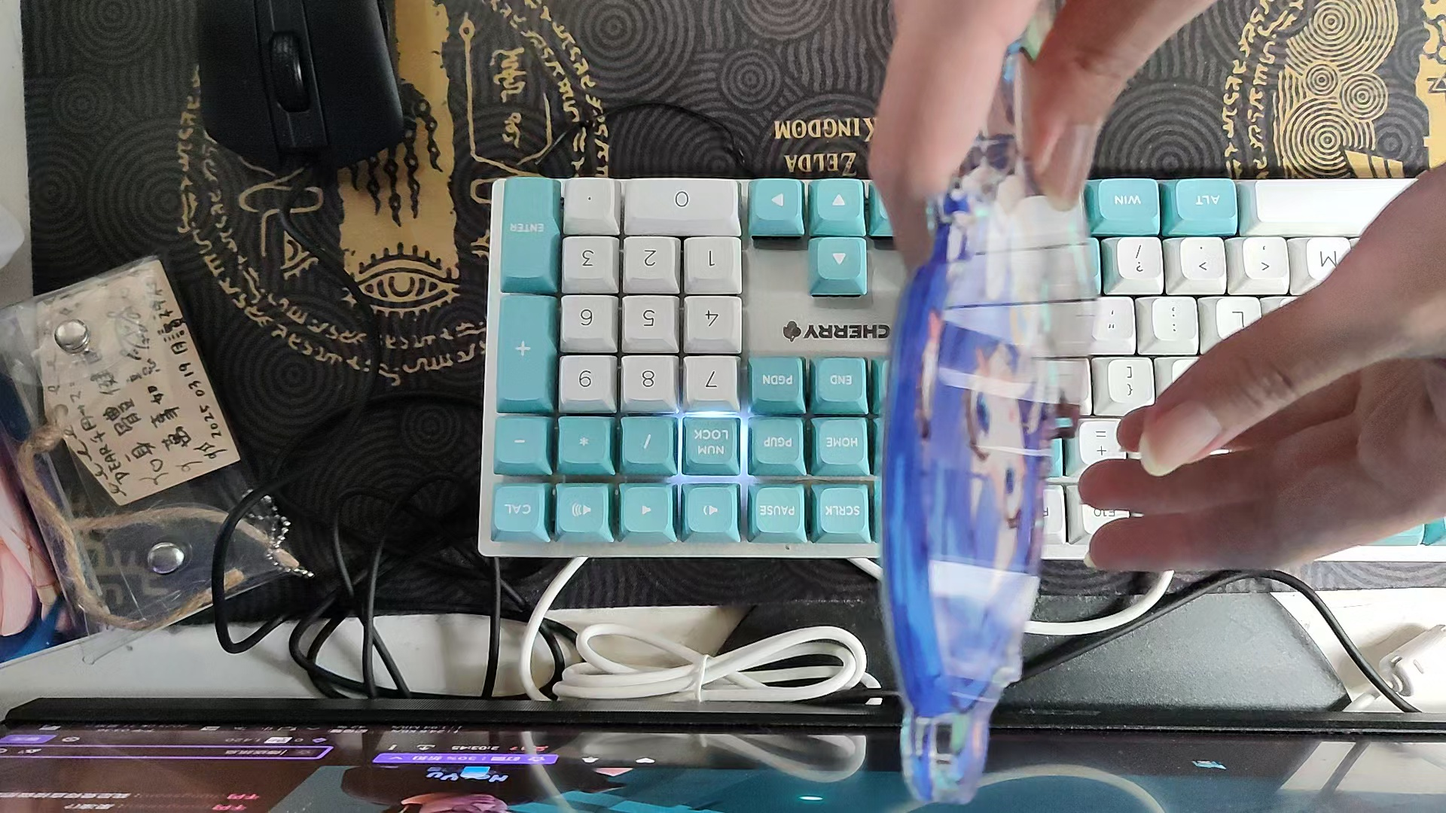Yanami-anna: (873, 0, 1096, 808)
